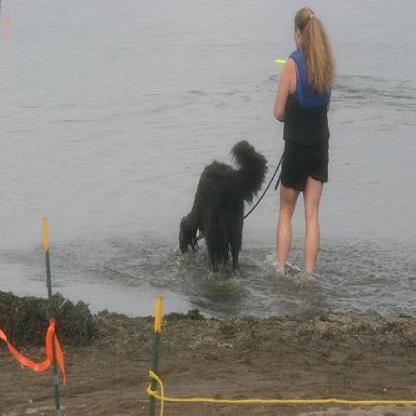Newfoundland: (178, 140, 265, 274)
